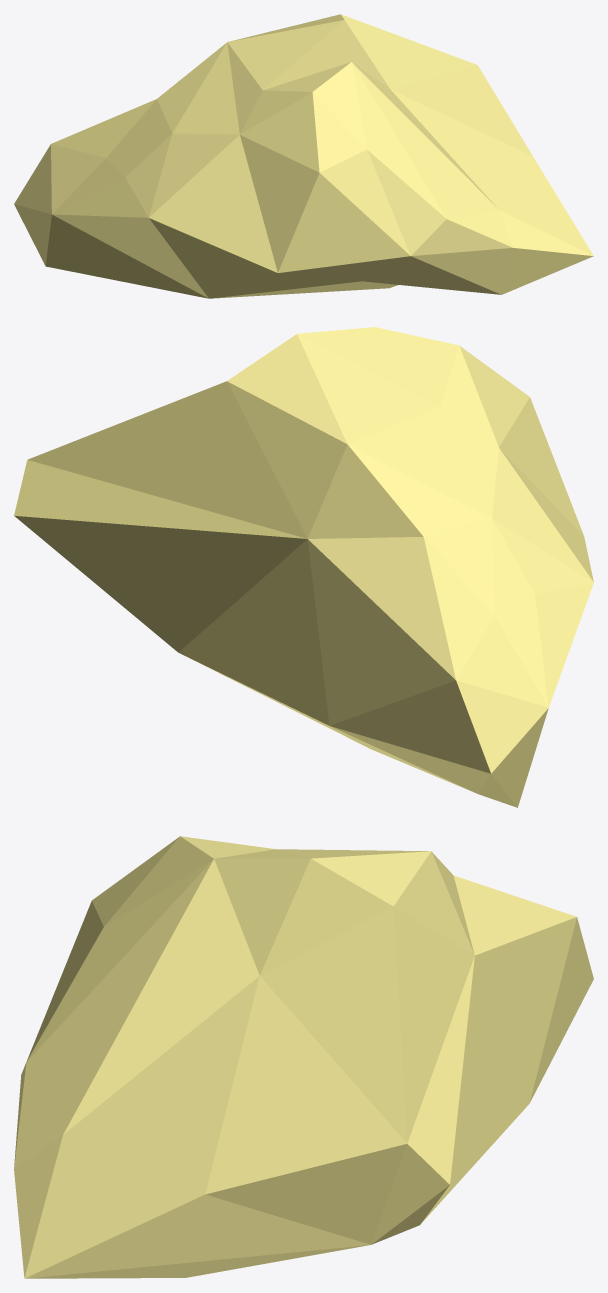
Rendered from Hill_002.glb.
The picture shows the model from 3 angles, top to bottom: view 1: azimuth 30°, elevation 25°; view 2: azimuth 150°, elevation 25°; view 3: azimuth 270°, elevation 25°; orthographic projection. The views are drawn at different scales.
Parts seen in each view (by area): view 1: Hill_002; view 2: Hill_002; view 3: Hill_002.
Part boxes in pixels (x1=…): Hill_002: x1=14, y1=14, x2=593, y2=298; Hill_002: x1=14, y1=327, x2=593, y2=807; Hill_002: x1=14, y1=836, x2=593, y2=1278.
Size of the model in its own units: 0.9012 by 0.5552 by 0.7455.
1 material, 1 textured.
